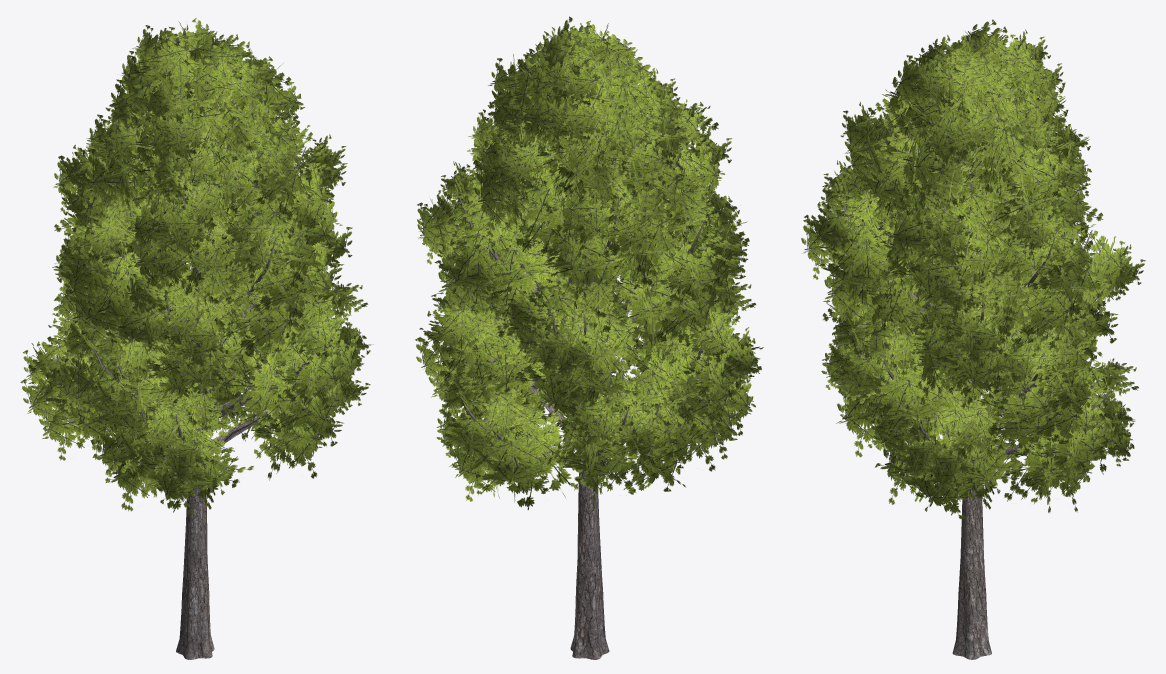
Rendered from tree.glb.
3 renders of one model, left to right at view 1: azimuth 30°, elevation 25°; view 2: azimuth 150°, elevation 25°; view 3: azimuth 270°, elevation 25°, orthographic.
Parts seen in each view (by area): view 1: leaves, trunk; view 2: leaves, trunk; view 3: leaves, trunk.
Boxes of the visible parts, bbox=[...] form: leaves: bbox=[20, 18, 373, 514]; trunk: bbox=[56, 70, 341, 659]; leaves: bbox=[415, 16, 763, 509]; trunk: bbox=[458, 71, 729, 659]; leaves: bbox=[801, 19, 1145, 519]; trunk: bbox=[840, 71, 1108, 659].
Bounding box in the file's own units: 4.59 × 8.62 × 4.44.
2 materials, 2 textured.
